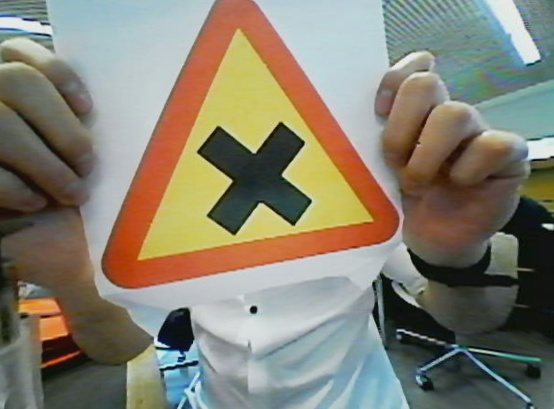junction: (51, 1, 410, 289)
